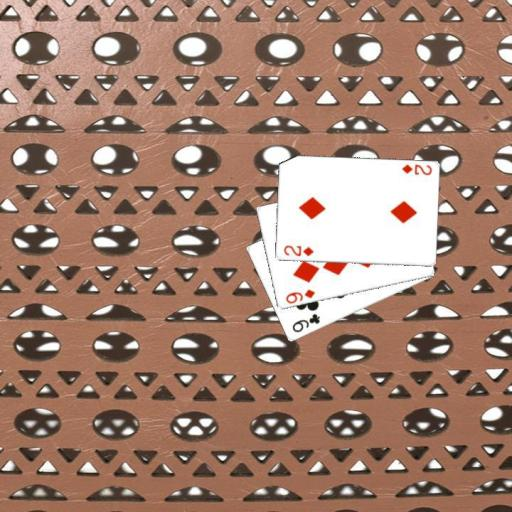2D: (280, 243, 314, 258), (399, 162, 433, 177)
9C: (289, 311, 321, 334)
9D: (283, 286, 317, 305)
